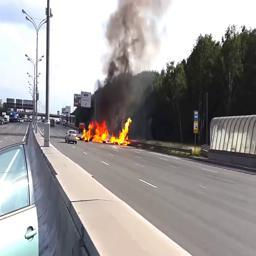fire: (80, 118, 132, 145)
